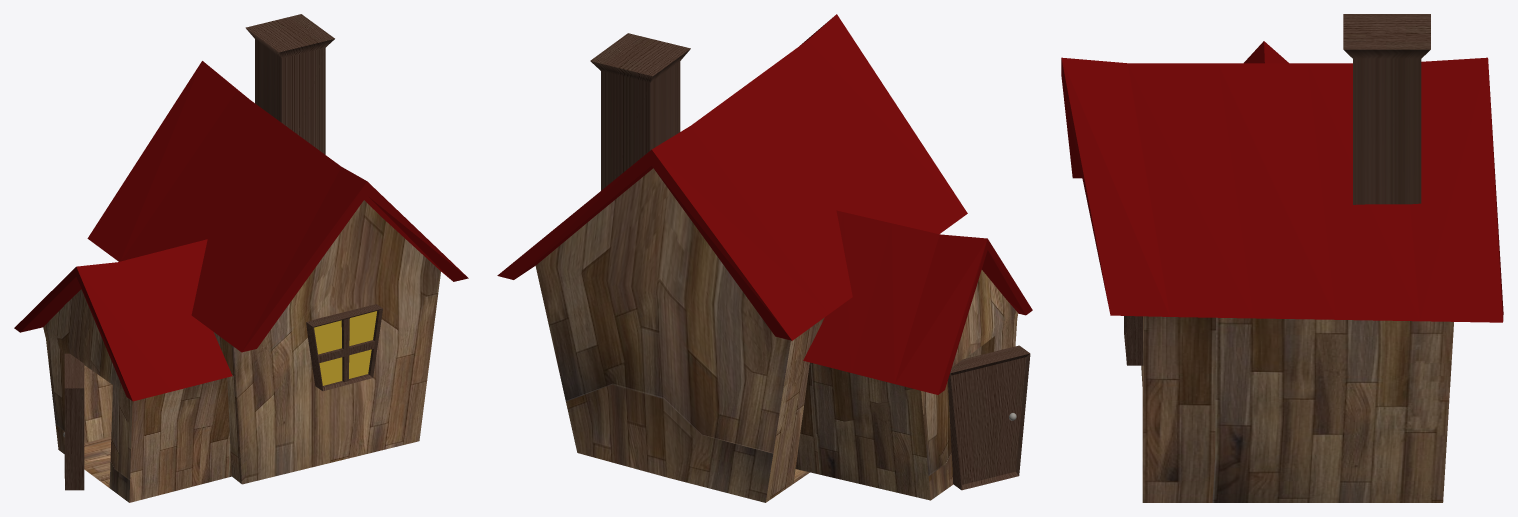
Rendered from new house.fbx.
3 renders of one model, left to right at view 1: azimuth 30°, elevation 25°; view 2: azimuth 150°, elevation 25°; view 3: azimuth 270°, elevation 25°, orthographic. The views are drawn at different scales.
Visible parts, largest first — view 1: polySurface1, polySurface2, polySurface4, polySurface3, pCube3, pasted__pCube4, pSphere3; view 2: polySurface2, polySurface1, polySurface3, polySurface4, pSphere3, pCube3; view 3: polySurface1, polySurface2, pCube3, pasted__pCube4, polySurface3.
Part boxes in pixels (box(x1,y1,x2,y2)): polySurface1: box(87, 61, 468, 352); polySurface2: box(213, 200, 440, 484); polySurface4: box(43, 289, 231, 502); polySurface3: box(14, 239, 232, 401); pCube3: box(245, 14, 334, 154); pasted__pCube4: box(306, 304, 382, 391); pSphere3: box(63, 353, 84, 490); polySurface2: box(535, 168, 824, 502); polySurface1: box(497, 14, 967, 340); polySurface3: box(803, 210, 1032, 394); polySurface4: box(795, 270, 1018, 500); pSphere3: box(948, 345, 1030, 490); pCube3: box(590, 33, 690, 190); polySurface1: box(1061, 57, 1503, 322); polySurface2: box(1141, 316, 1453, 502); pCube3: box(1343, 14, 1430, 204); pasted__pCube4: box(1124, 316, 1143, 365); polySurface3: box(1244, 41, 1288, 63).
Size of the model in its own units: 11.74 by 10.65 by 9.4.
7 materials, 4 textured.
